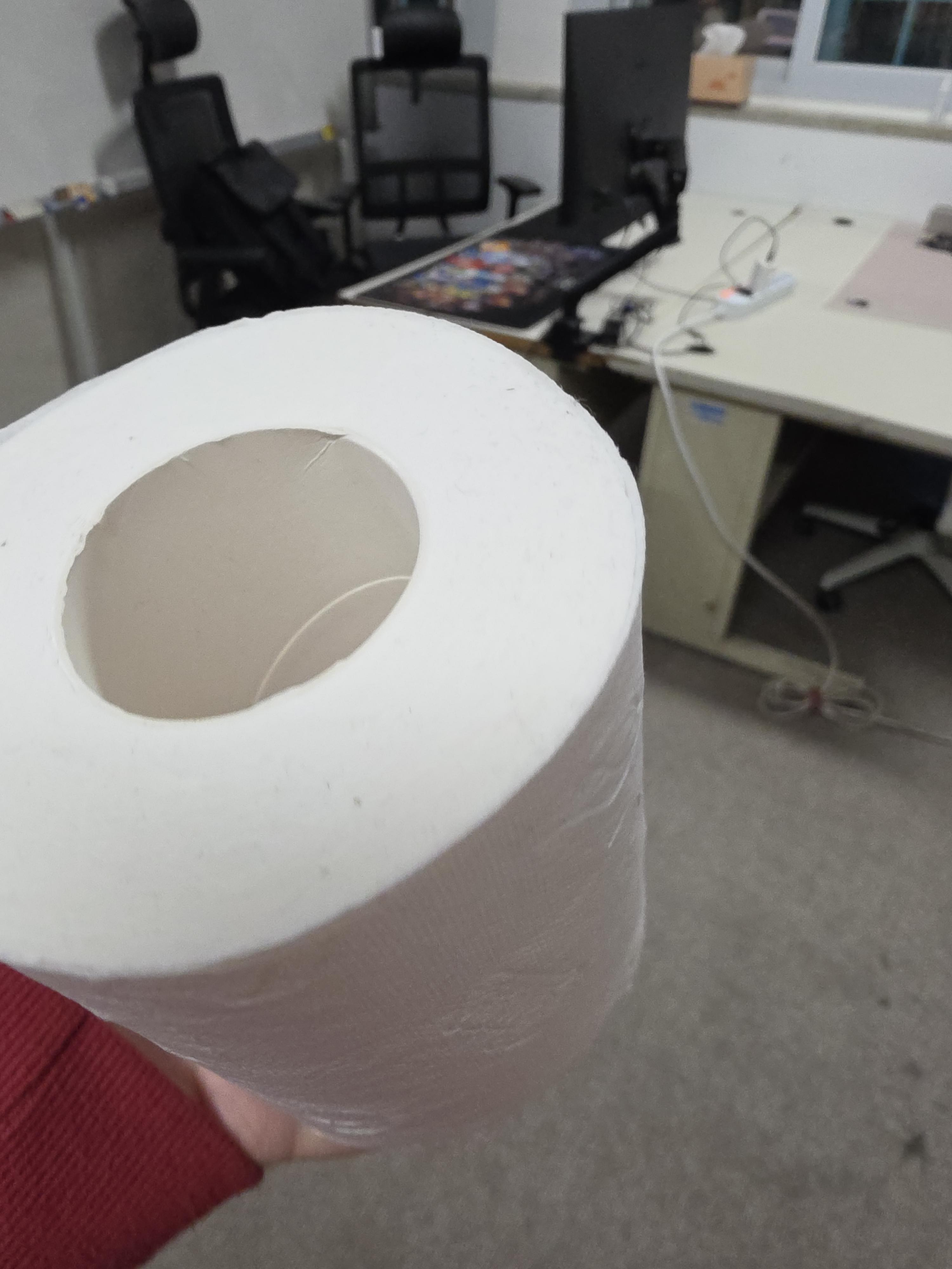tissue: (0, 304, 648, 1150), (689, 22, 757, 105)
